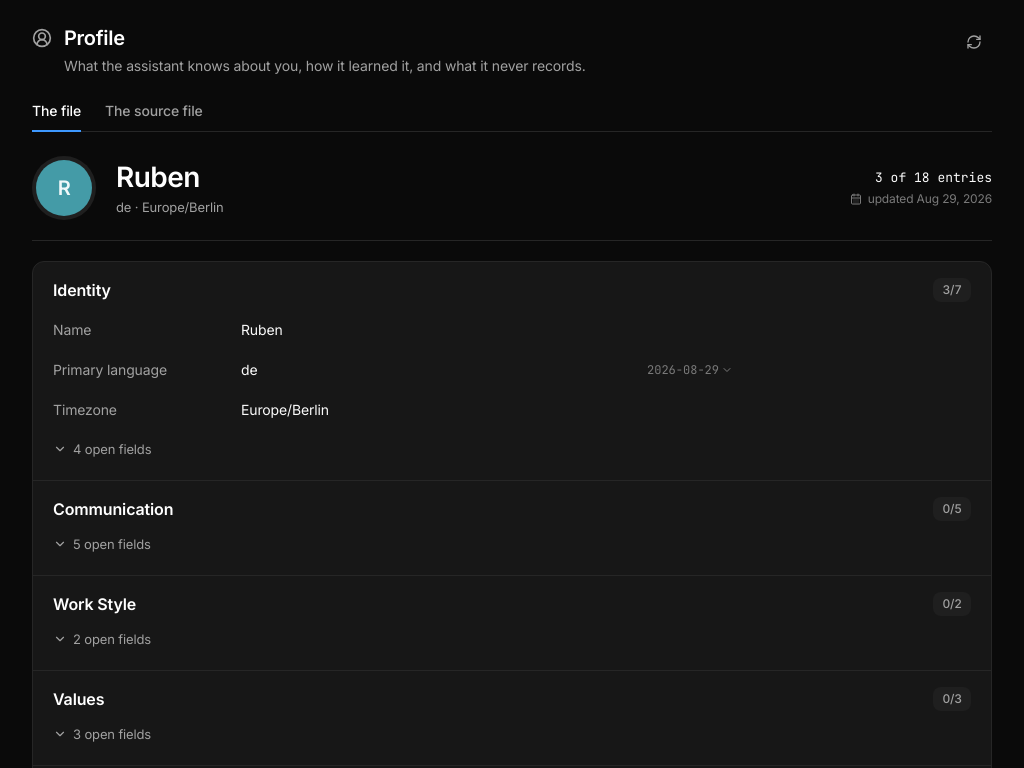
Test: provenance › shows the date a fact was learned and the sentence behind it
The width and height of the screenshot is (1024, 768).
Click the button with test id "entry-source-primary_language". click: (690, 370)
box: [643, 362, 737, 378]
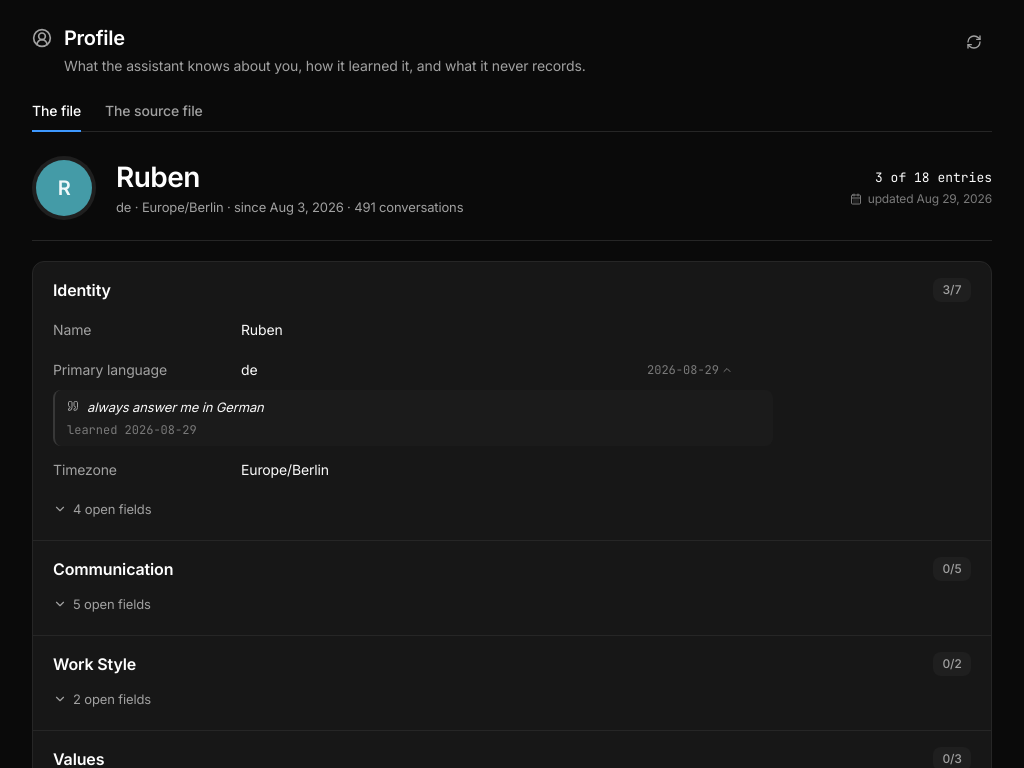
Check: the text "always answer me in German" is shown, box [87, 398, 264, 416]
